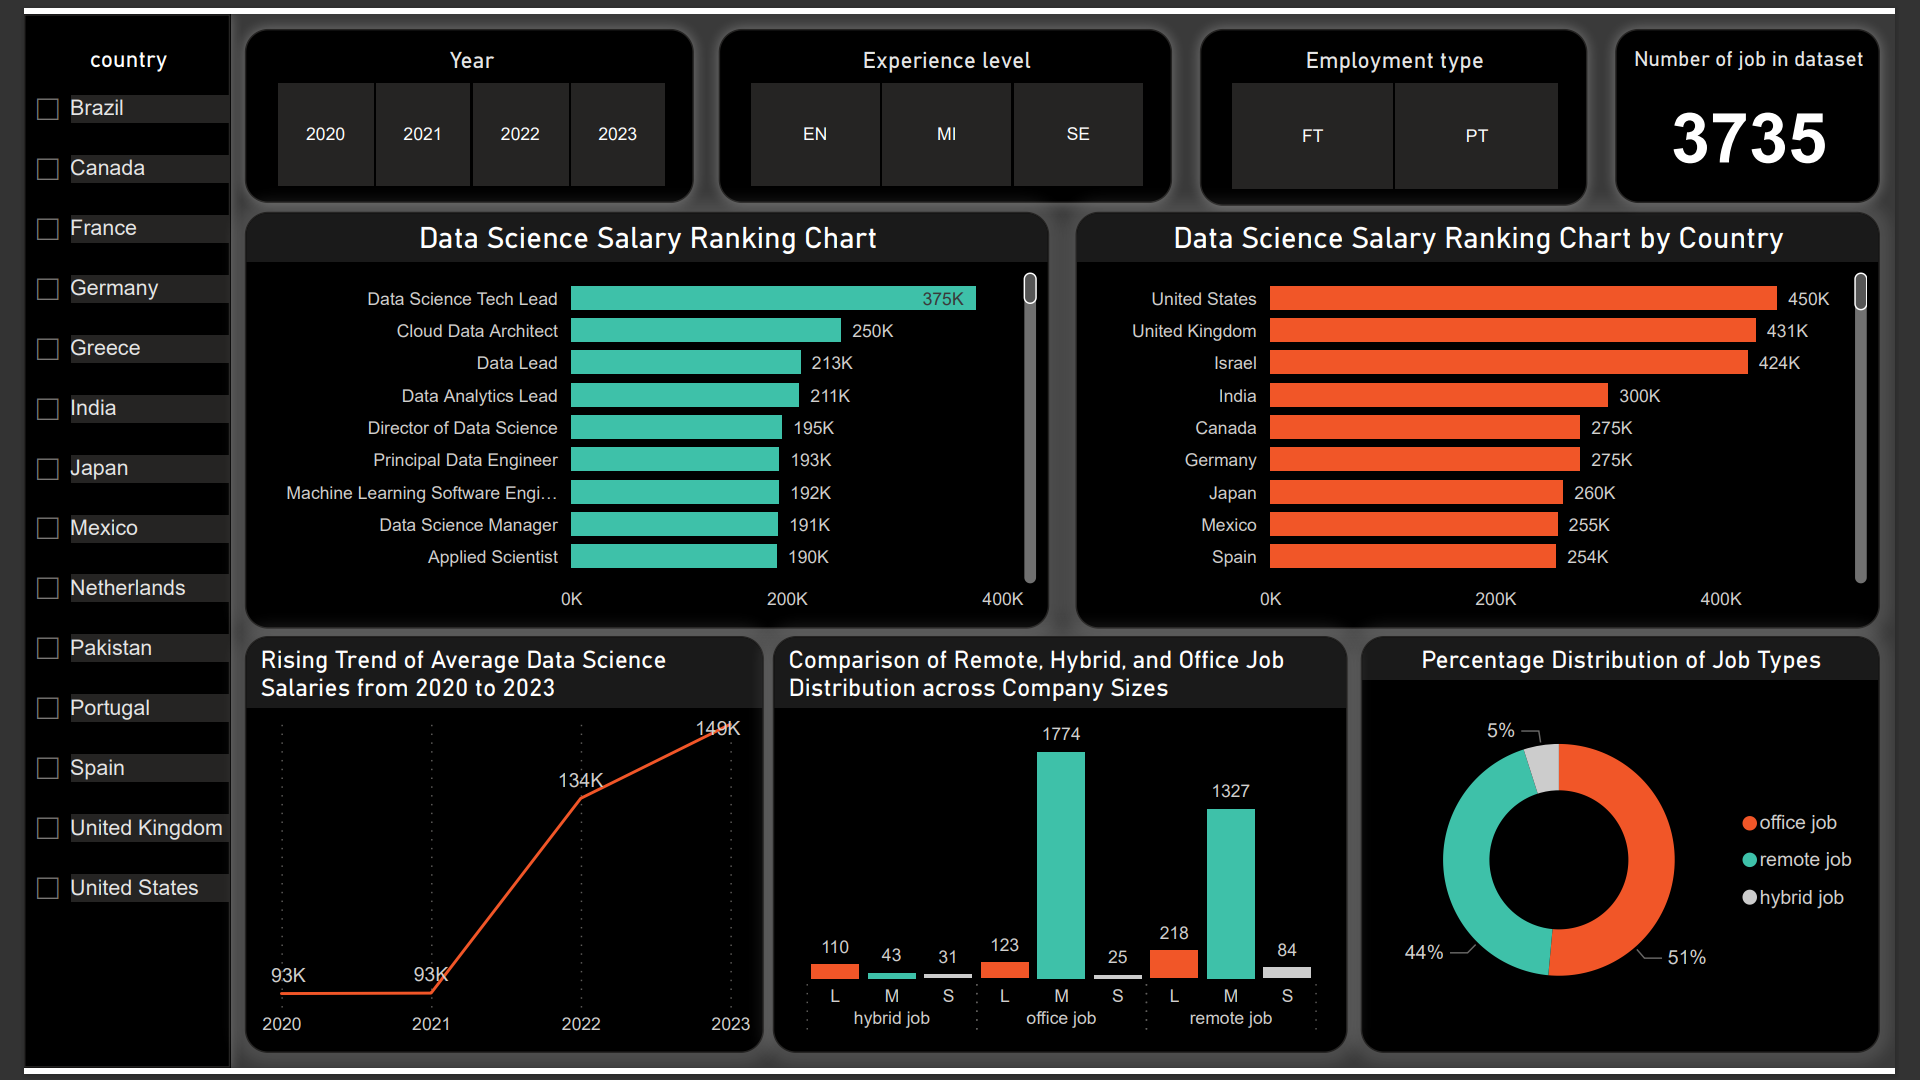

This screenshot's page, from the dashboard's own definition file:
{"tool":"powerbi","page":{"name":"Page 1","canvas":[1280,720],"ordinal":0},"visuals":[{"type":"slicer","title":"Year","fields":{"Values":["salary ds_salaries.work_year"]},"box":[150.9,9.6,307.4,119.4],"z":0},{"type":"slicer","title":"Experience level","fields":{"Values":["salary ds_salaries.experience_level"]},"box":[474.8,9.6,310.1,119.4],"z":1000},{"type":"slicer","title":"Employment type","fields":{"Values":["salary ds_salaries.employment_type"]},"box":[804.1,9.6,264.8,120.8],"z":2000},{"type":"barChart","title":"Data Science Salary Ranking Chart by Country","fields":{"Y":["Max(salary ds_salaries.salary_in_usd)"],"Category":["salary ds_salaries.employee_residence_full"]},"box":[719.4,134.6,549.7,284.7],"z":3000},{"type":"slicer","title":"country","fields":{"Values":["salary ds_salaries.employee_residence_full"]},"box":[0,0,141.3,720.4],"z":4000},{"type":"card","title":"Number of job in dataset","fields":{"Values":["CountNonNull(salary ds_salaries.job_title)"]},"box":[1088.2,9.6,181.1,119.4],"z":5000},{"type":"barChart","title":"Data Science Salary Ranking Chart","fields":{"Category":["salary ds_salaries.job_title"],"Y":["Avg(salary ds_salaries.salary_in_usd)"]},"box":[151.4,134.6,549.7,284.7],"z":6000},{"type":"donutChart","title":"Percentage Distribution of Job Types","fields":{"Y":["CountNonNull(salary ds_salaries.remote_ratio)"],"Category":["salary ds_salaries.remote_ratio_full"]},"box":[914.3,424.9,354.8,284.7],"z":7000},{"type":"lineChart","title":"Rising Trend of Average Data Science Salaries from 2020 to 2023","fields":{"Category":["salary ds_salaries.work_year"],"Y":["Avg(salary ds_salaries.salary_in_usd)"]},"box":[151.4,424.9,354.8,284.7],"z":8000},{"type":"clusteredColumnChart","title":"Comparison of Remote, Hybrid, and Office Job Distribution across Company Sizes","fields":{"Category":["salary ds_salaries.remote_ratio_full","salary ds_salaries.company_size"],"Y":["CountNonNull(salary ds_salaries.company_size)"]},"box":[511.8,424.9,392.6,284.7],"z":9000}]}

Visuals, with their boxes in screenshot pixels (x1, y1, x2, y2), scaled from the page's 1280x720 canvas onto the 1920x1080 screenshot:
"Year" slicer: select_region(226, 14, 687, 194)
"Experience level" slicer: select_region(712, 14, 1177, 194)
"Employment type" slicer: select_region(1206, 14, 1603, 196)
"Data Science Salary Ranking Chart by Country" barChart: select_region(1079, 202, 1904, 629)
"country" slicer: select_region(0, 0, 212, 1079)
"Number of job in dataset" card: select_region(1632, 14, 1904, 194)
"Data Science Salary Ranking Chart" barChart: select_region(227, 202, 1052, 629)
"Percentage Distribution of Job Types" donutChart: select_region(1371, 637, 1904, 1064)
"Rising Trend of Average Data Science Salaries from 2020 to 2023" lineChart: select_region(227, 637, 759, 1064)
"Comparison of Remote, Hybrid, and Office Job Distribution across Company Sizes" clusteredColumnChart: select_region(768, 637, 1357, 1064)
